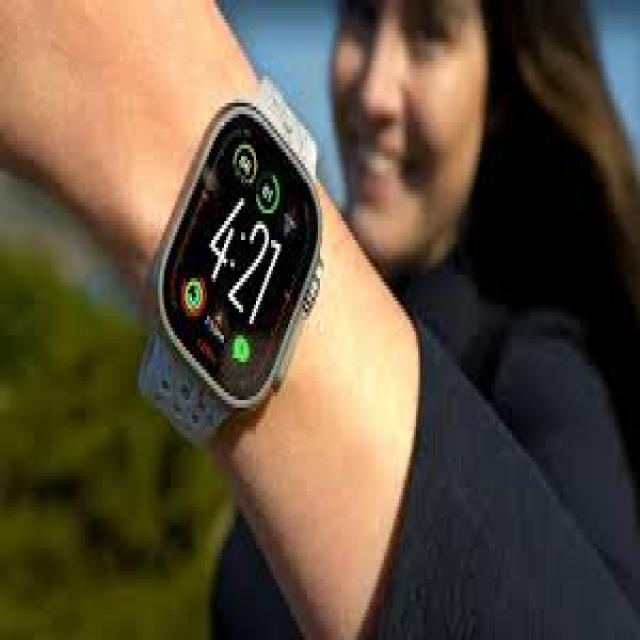objects: (142, 76, 328, 456)
